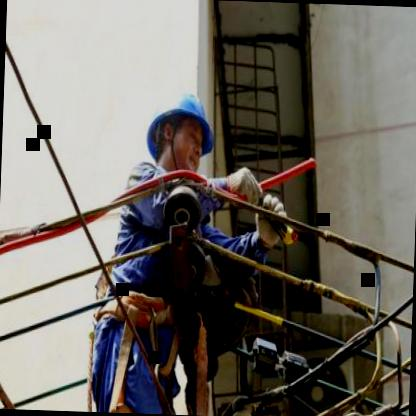helmet: (146, 80, 217, 188)
